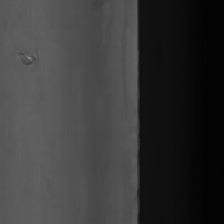rolled_pit: (14, 43, 43, 72)
